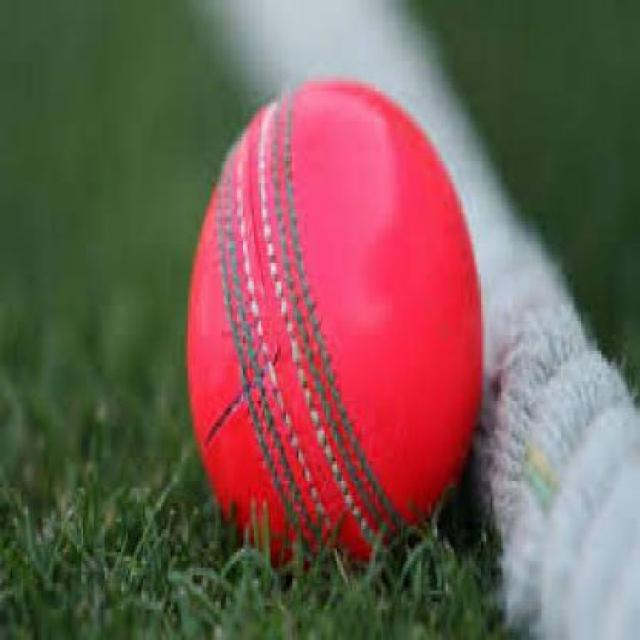ball: (152, 41, 490, 584)
